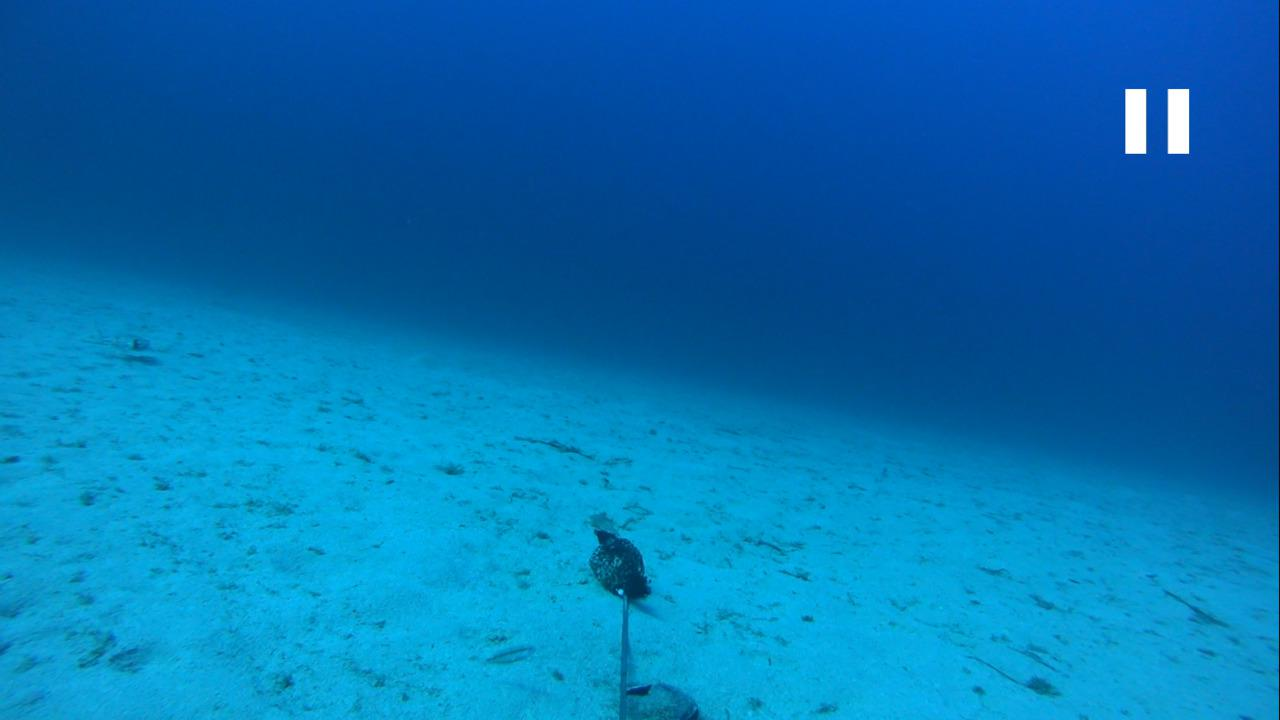dactylopterus: (86, 321, 162, 360)
